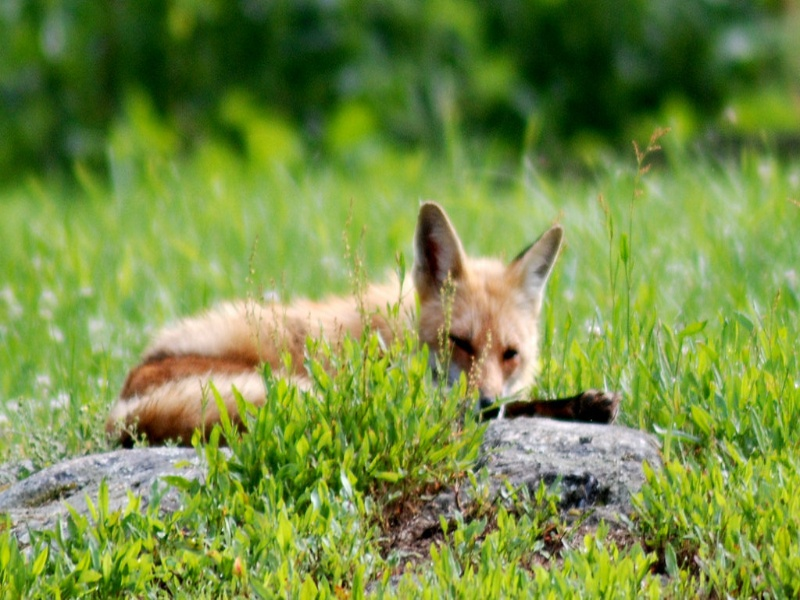fox: (101, 196, 630, 454)
